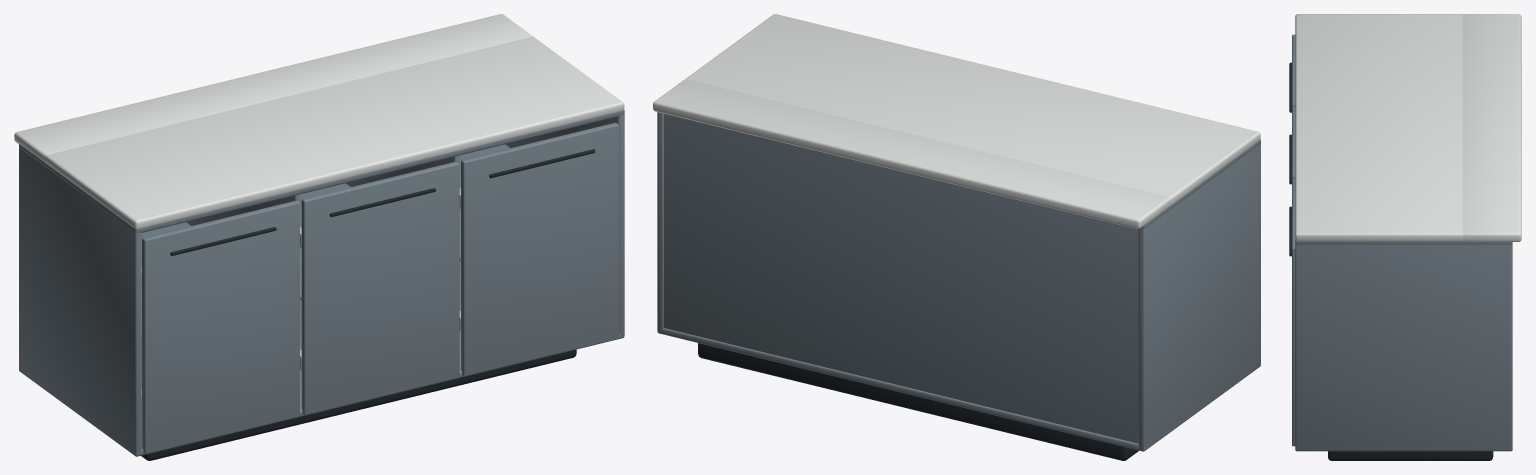
The model's file is steel-prep-island.glb.
3 renders of one model, left to right at view 1: azimuth 30°, elevation 25°; view 2: azimuth 150°, elevation 25°; view 3: azimuth 270°, elevation 25°, orthographic. The views are drawn at different scales.
Visible parts, largest first — view 1: catalog_surface_RealismUV, catalog_surface_UVMap; view 2: catalog_surface_RealismUV, catalog_surface_UVMap; view 3: catalog_surface_UVMap, catalog_surface_RealismUV.
Part boxes in pixels (x1,y1,x2,y2): catalog_surface_RealismUV: (19, 109, 624, 456); catalog_surface_UVMap: (14, 14, 624, 460); catalog_surface_RealismUV: (657, 112, 1260, 451); catalog_surface_UVMap: (653, 14, 1260, 460); catalog_surface_UVMap: (1289, 14, 1521, 460); catalog_surface_RealismUV: (1292, 34, 1512, 451).
Size of the model in its own units: 1.8 by 0.92 by 0.8.
